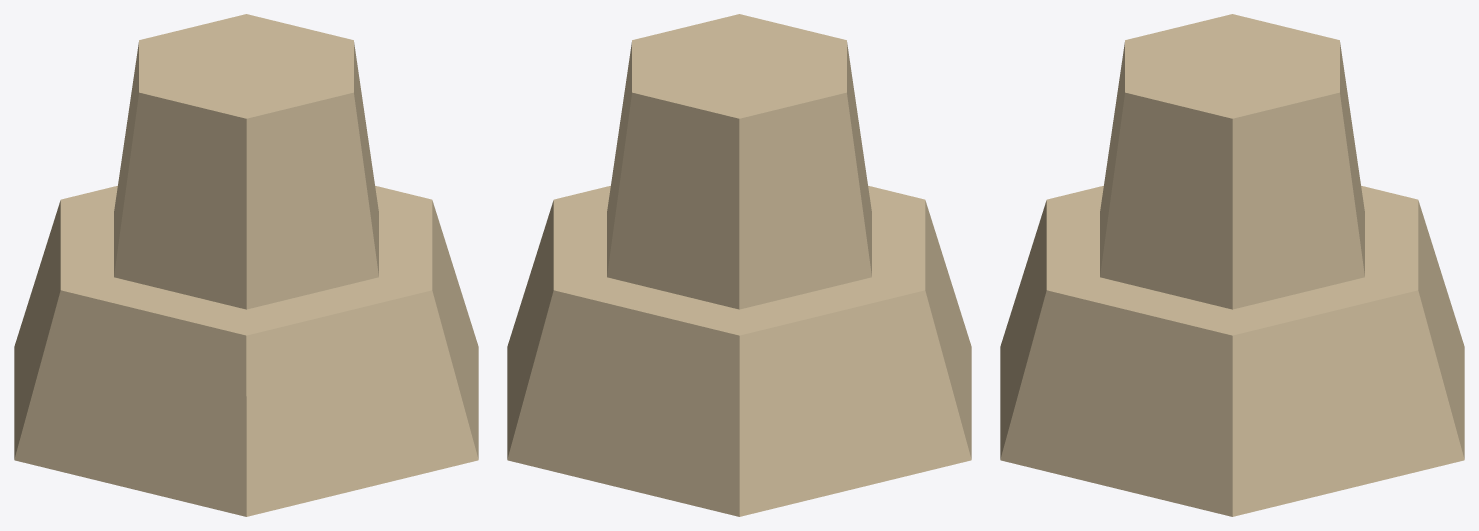
Rendered from naturePack_019.fbx.
3 renders of one model, left to right at view 1: azimuth 30°, elevation 25°; view 2: azimuth 150°, elevation 25°; view 3: azimuth 270°, elevation 25°, orthographic.
Parts seen in each view (by area): view 1: naturePack_019; view 2: naturePack_019; view 3: naturePack_019.
Boxes of the visible parts, box(x1,y1,x2,y2) form: naturePack_019: box(14, 14, 478, 516); naturePack_019: box(507, 14, 971, 516); naturePack_019: box(1000, 14, 1464, 516).
Bounding box in the file's own units: 98 × 68 × 84.87.
